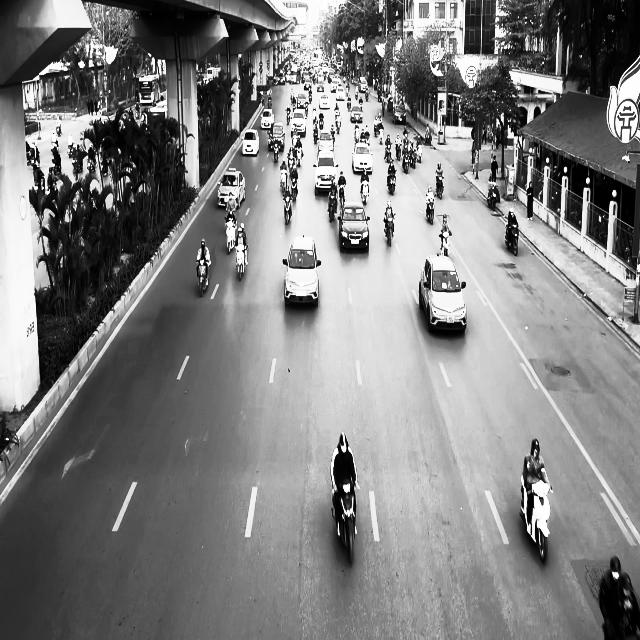bus: (137, 74, 160, 107)
car: (419, 253, 467, 334), (282, 234, 322, 306), (338, 202, 370, 253), (313, 150, 339, 196), (217, 169, 246, 208), (352, 142, 374, 174), (242, 128, 260, 156), (268, 123, 286, 151), (393, 104, 406, 124)
motorbike: (519, 475, 554, 564), (331, 464, 358, 564), (196, 259, 211, 297), (505, 219, 519, 256), (225, 218, 237, 254), (236, 244, 248, 280), (384, 212, 396, 247), (439, 230, 452, 256), (283, 191, 293, 224), (426, 196, 435, 224), (361, 177, 370, 204), (388, 170, 397, 194), (436, 177, 444, 199)
